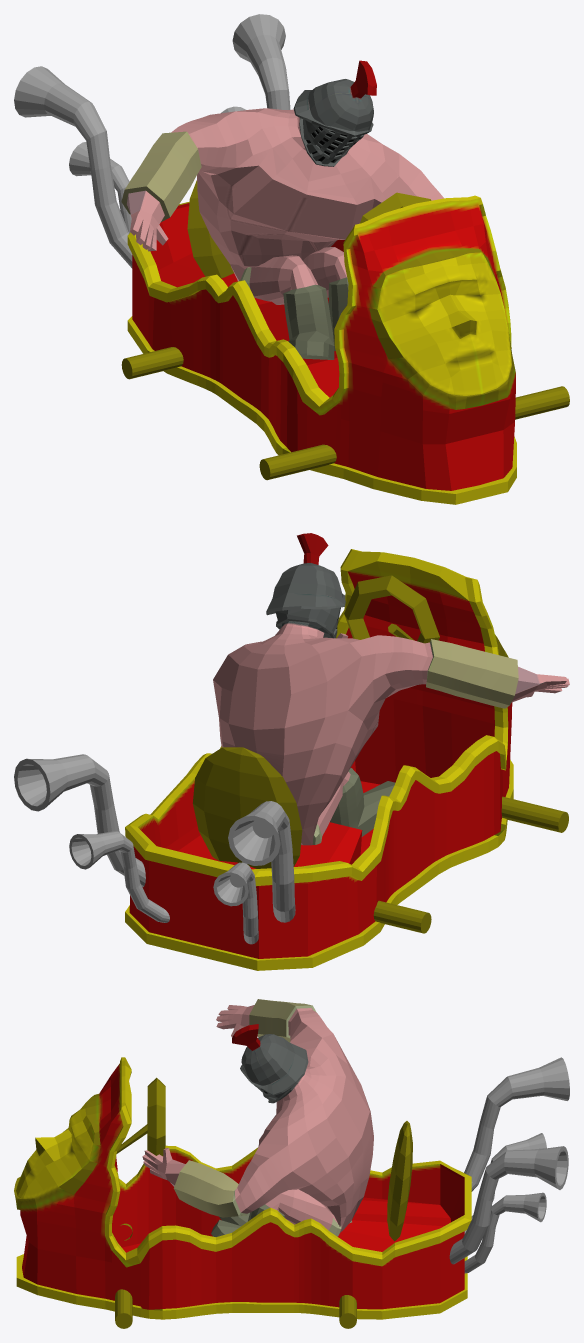
The model's file is gladiVacile_000560.obj.
The picture shows the model from 3 angles, top to bottom: view 1: azimuth 30°, elevation 25°; view 2: azimuth 150°, elevation 25°; view 3: azimuth 270°, elevation 25°; orthographic projection. The views are drawn at different scales.
Visible parts, largest first — view 1: GladiChasis_GladiChasisH, Gadiador_Gladiador_H.001, GladiTubos_GladiTubosH, GladiVolante_GladiVolanteH; view 2: GladiChasis_GladiChasisH, Gadiador_Gladiador_H.001, GladiTubos_GladiTubosH, GladiVolante_GladiVolanteH; view 3: GladiChasis_GladiChasisH, Gadiador_Gladiador_H.001, GladiTubos_GladiTubosH, GladiVolante_GladiVolanteH.
Boxes of the visible parts, <box> form: GladiChasis_GladiChasisH: <box>127,195,516,504</box>; Gadiador_Gladiador_H.001: <box>121,60,443,359</box>; GladiTubos_GladiTubosH: <box>14,14,290,268</box>; GladiVolante_GladiVolanteH: <box>121,180,569,480</box>; GladiChasis_GladiChasisH: <box>125,549,513,970</box>; Gadiador_Gladiador_H.001: <box>213,533,569,845</box>; GladiTubos_GladiTubosH: <box>14,754,295,944</box>; GladiVolante_GladiVolanteH: <box>192,575,568,933</box>; GladiChasis_GladiChasisH: <box>14,1057,471,1319</box>; Gadiador_Gladiador_H.001: <box>142,999,373,1236</box>; GladiTubos_GladiTubosH: <box>449,1057,569,1273</box>; GladiVolante_GladiVolanteH: <box>115,1077,412,1328</box>.
Size of the model in its own units: 6.72 by 5.62 by 10.78.
